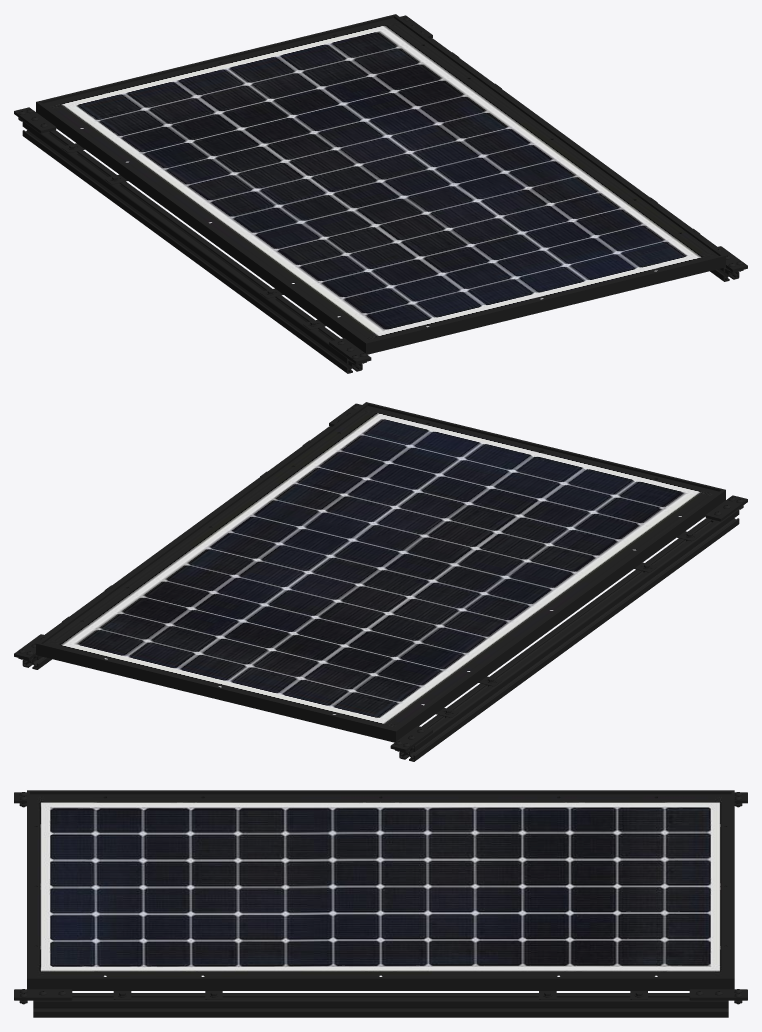
File: 250W_newpowa_sp.glb
3 views of the same model, one above another, from view 1: azimuth 30°, elevation 25°; view 2: azimuth 150°, elevation 25°; view 3: azimuth 270°, elevation 25° (orthographic). The views are drawn at different scales.
Parts seen in each view (by area): view 1: new_solar250; view 2: new_solar250; view 3: new_solar250.
Boxes of the visible parts, x1,y1,x2,y2 form: new_solar250: (14, 14, 747, 373); new_solar250: (14, 402, 747, 761); new_solar250: (14, 790, 747, 1017).
Bounding box in the file's own units: 0.9538 × 0.0671 × 1.44.
1 material, 1 textured.
